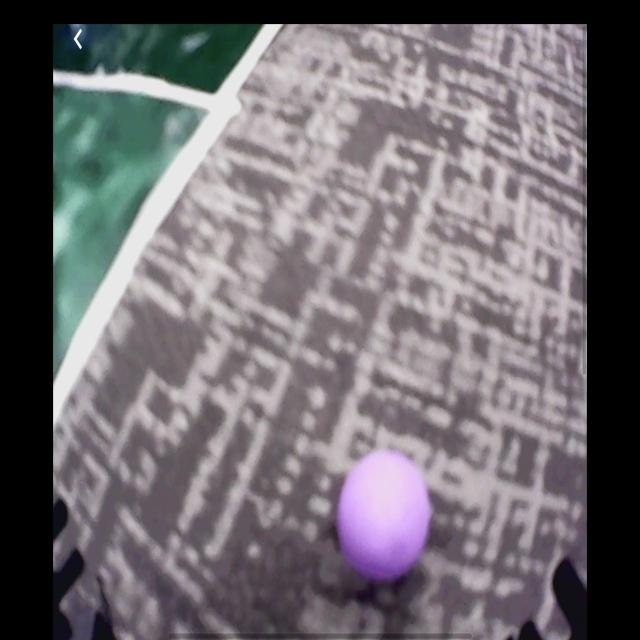ball: (340, 450, 430, 583)
